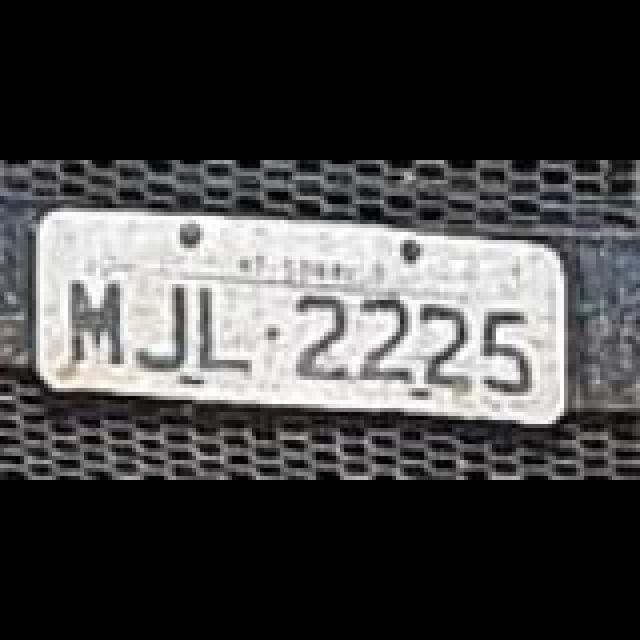2: (356, 298, 412, 382), (292, 298, 348, 382), (422, 306, 474, 390)
5: (482, 308, 534, 396)
J: (136, 284, 192, 372)
L: (200, 288, 256, 376)
M: (70, 280, 122, 368)
